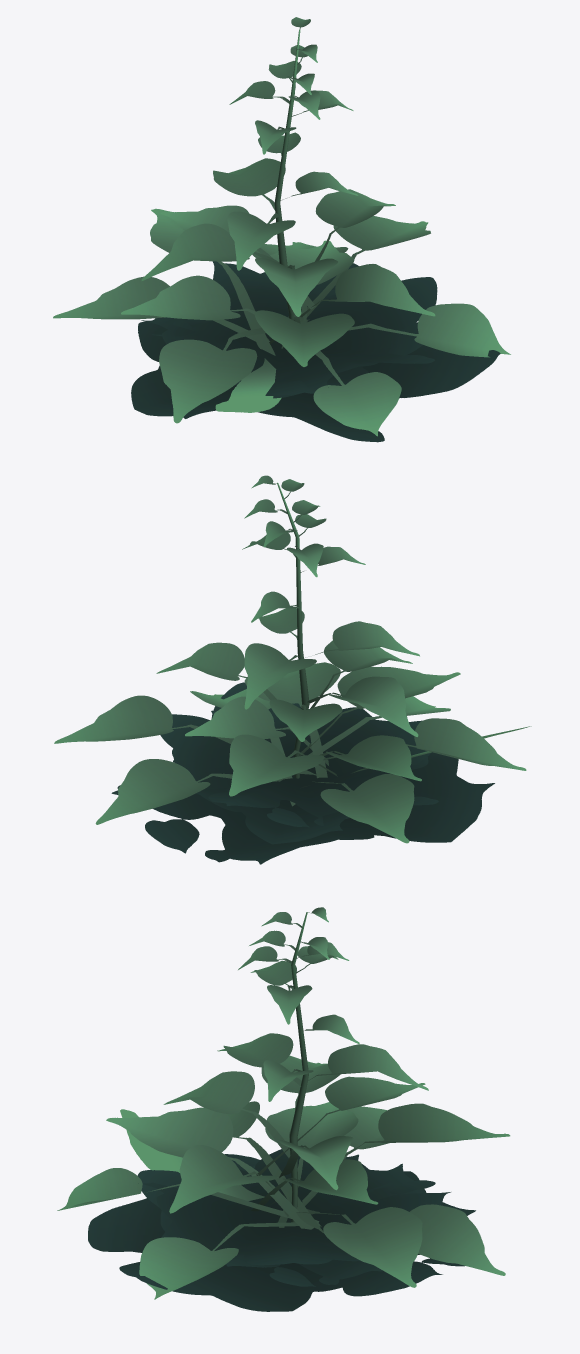
File: plant_02.glb
3 views of the same model, one above another, from view 1: azimuth 30°, elevation 25°; view 2: azimuth 150°, elevation 25°; view 3: azimuth 270°, elevation 25° (orthographic). The views are drawn at different scales.
Parts seen in each view (by area): view 1: plant_02; view 2: plant_02; view 3: plant_02.
Part boxes in pixels (bbox=[...]): plant_02: bbox=[53, 17, 510, 442]; plant_02: bbox=[54, 475, 531, 864]; plant_02: bbox=[57, 907, 510, 1311].
Size of the model in its own units: 1.41 by 0.99 by 1.36.
1 material, 1 textured.
